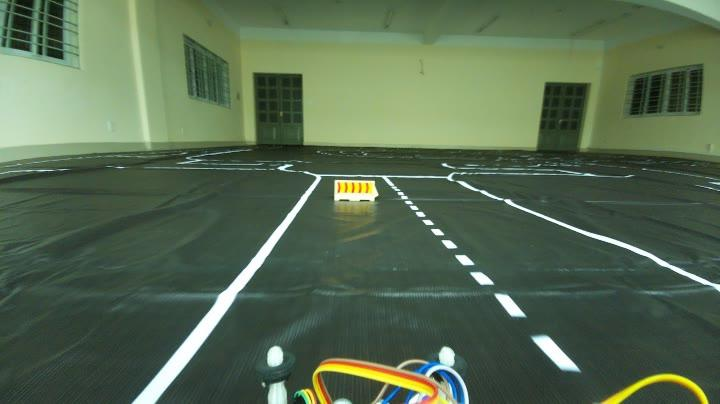roadblock: (325, 175, 382, 207)
